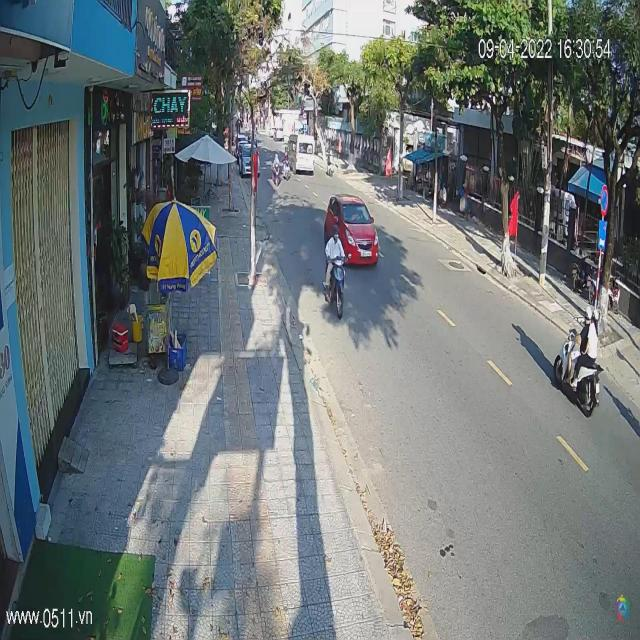car: (324, 195, 380, 267)
motorcycle: (554, 322, 604, 418), (323, 254, 348, 326)
